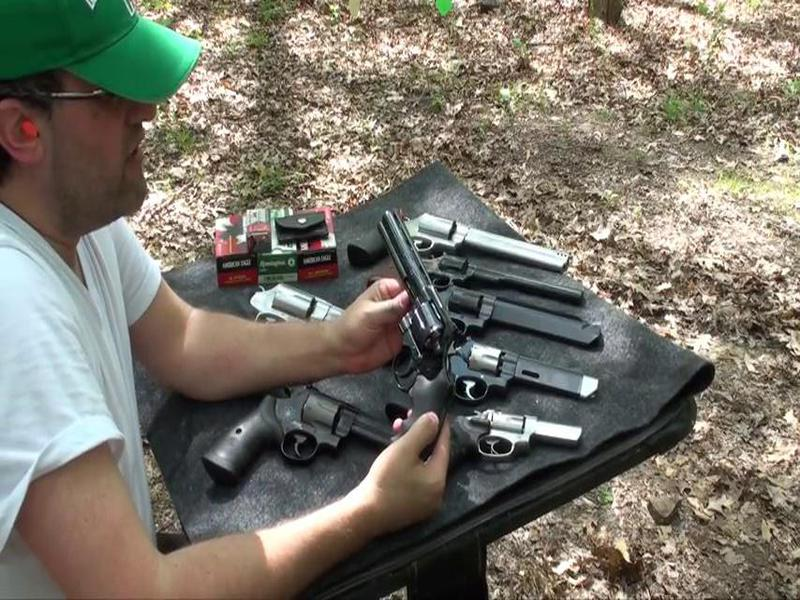Revolver: (370, 200, 474, 438)
